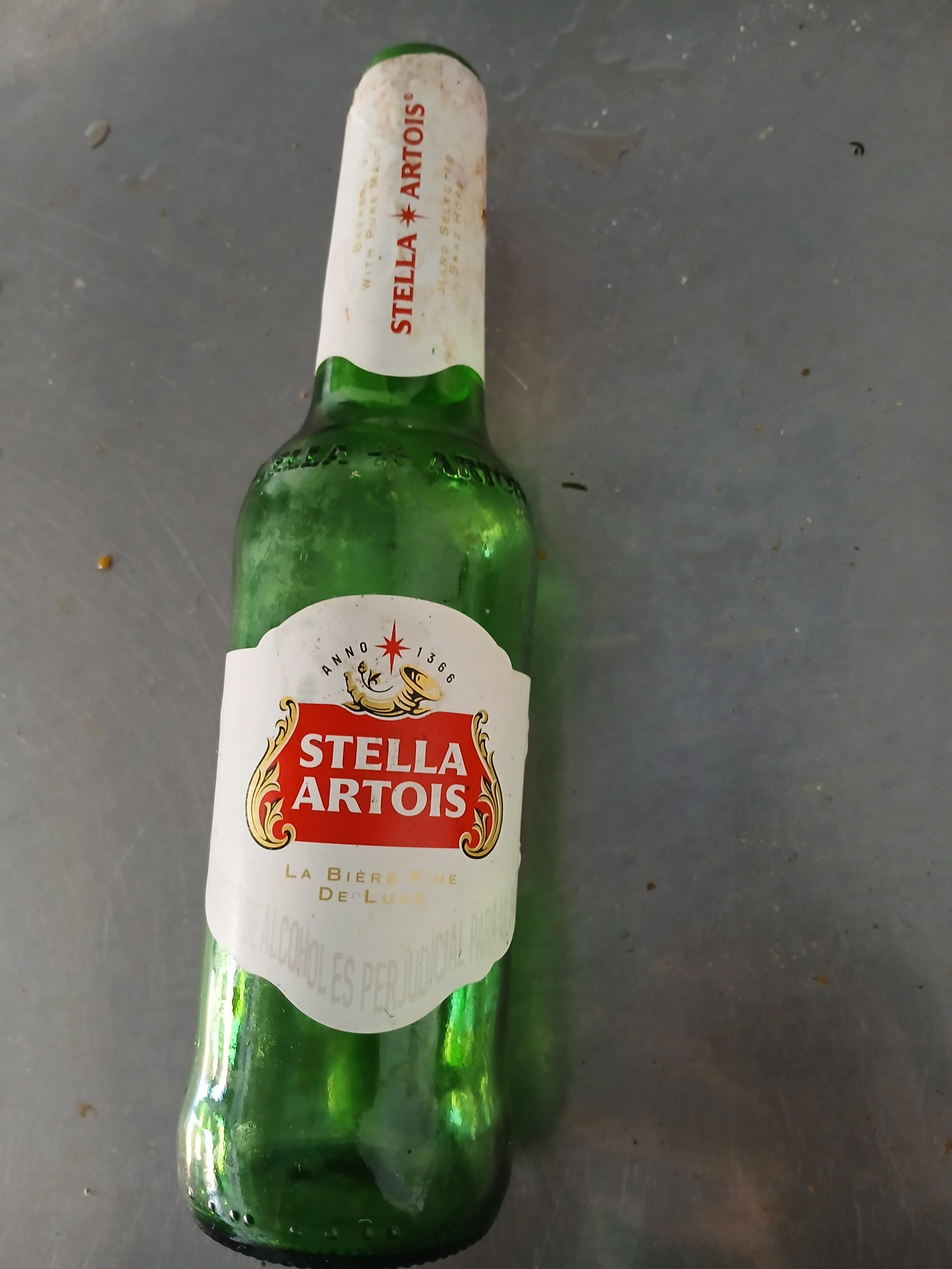Vidrio: (173, 44, 538, 1269)
